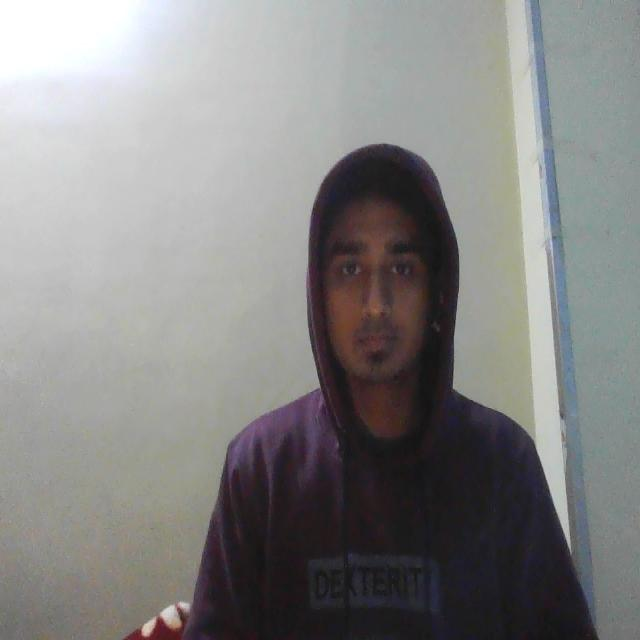real: (298, 120, 464, 435)
